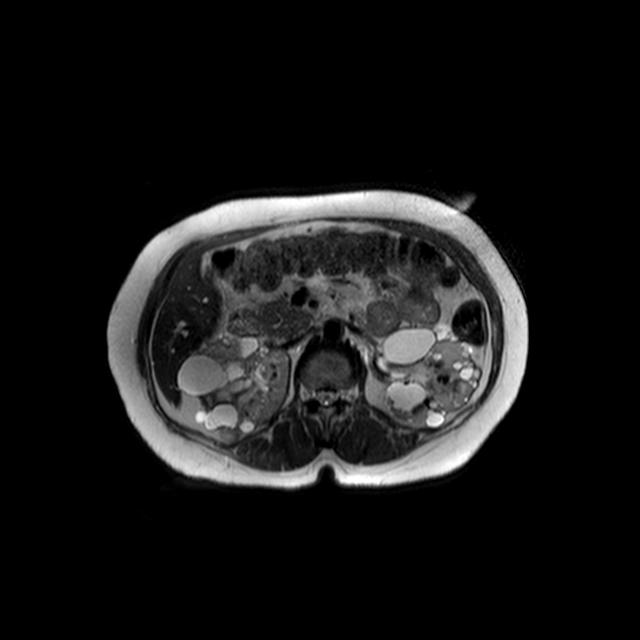sag: (179, 335, 290, 440)
sol: (375, 323, 483, 423)
